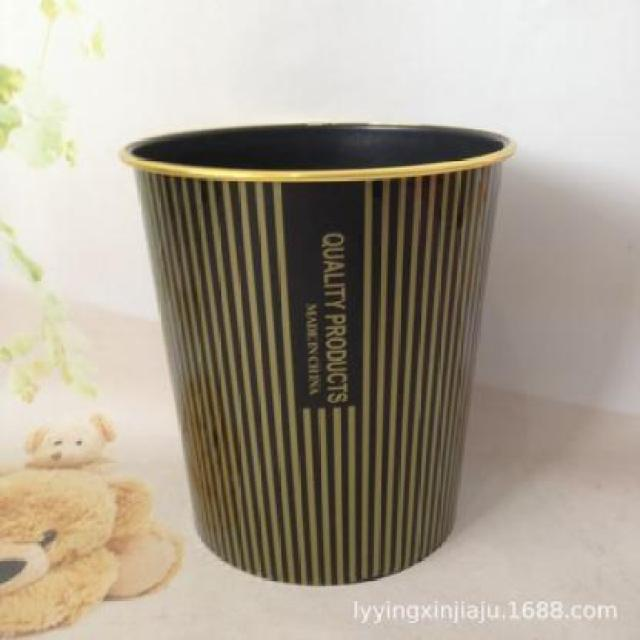dustbin: (114, 114, 520, 591)
